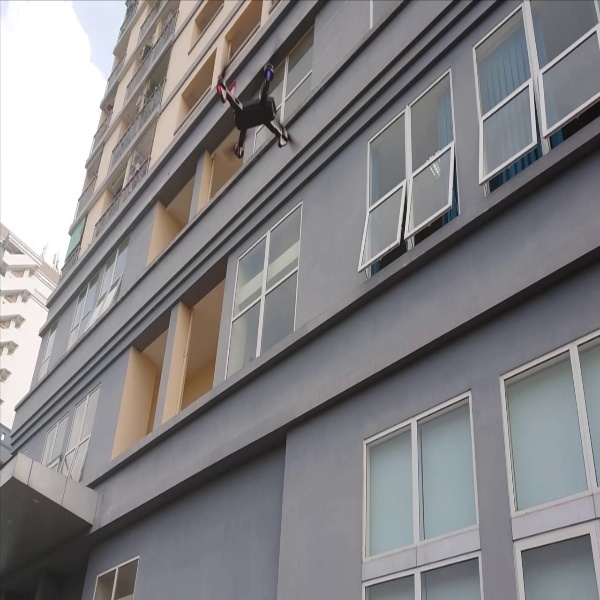drone: (207, 49, 294, 158)
